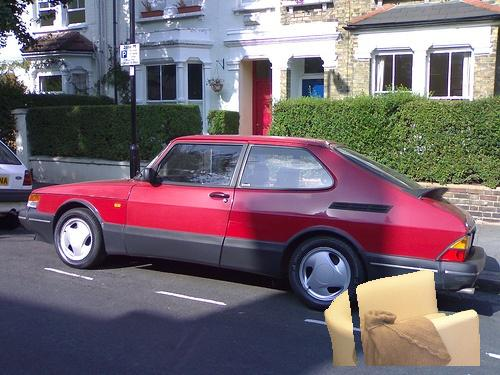tampered: (325, 271, 480, 366)
